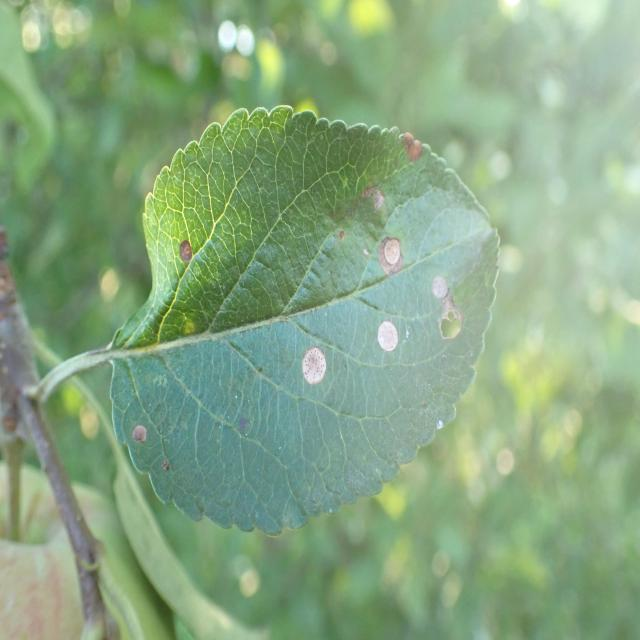Black Rot: (429, 265, 472, 367), (370, 300, 410, 381), (290, 325, 332, 395), (125, 398, 160, 471), (355, 162, 396, 220), (366, 230, 413, 278), (393, 123, 434, 173), (170, 214, 204, 274)
